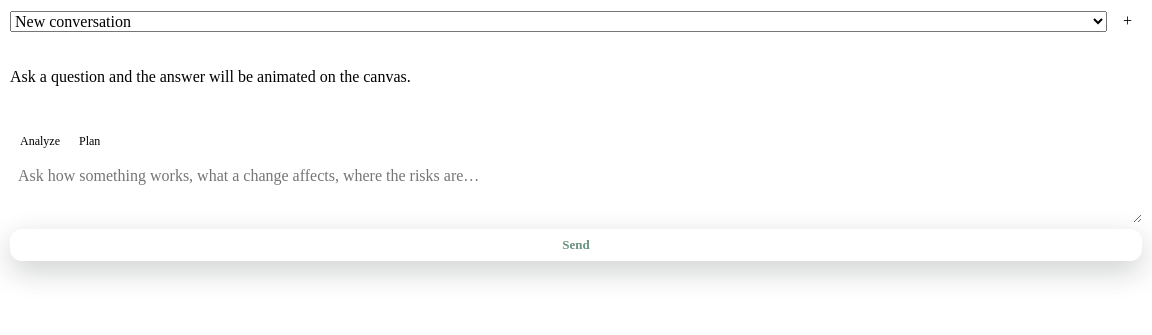
Test: ChatPanel › survives browsers whose scrollIntoView returns a promise
The image size is (1152, 335).
Replace the text in the 2nd text box with test id "chat-input" with "hi" at (576, 191), box [10,159,1142,223]
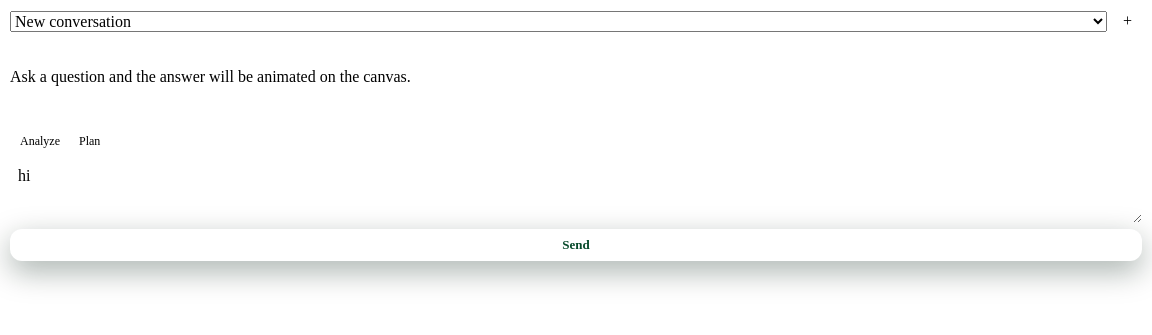
Result: the button with test id "chat-send" is enabled
Click the button with test id "chat-send" at (576, 245), box [10,229,1142,261]
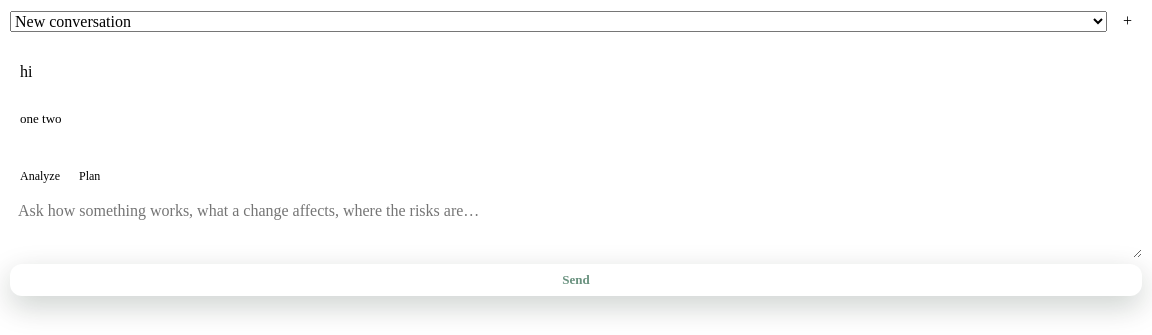
Result: the text "one two" is shown at [20,111,62,126]
